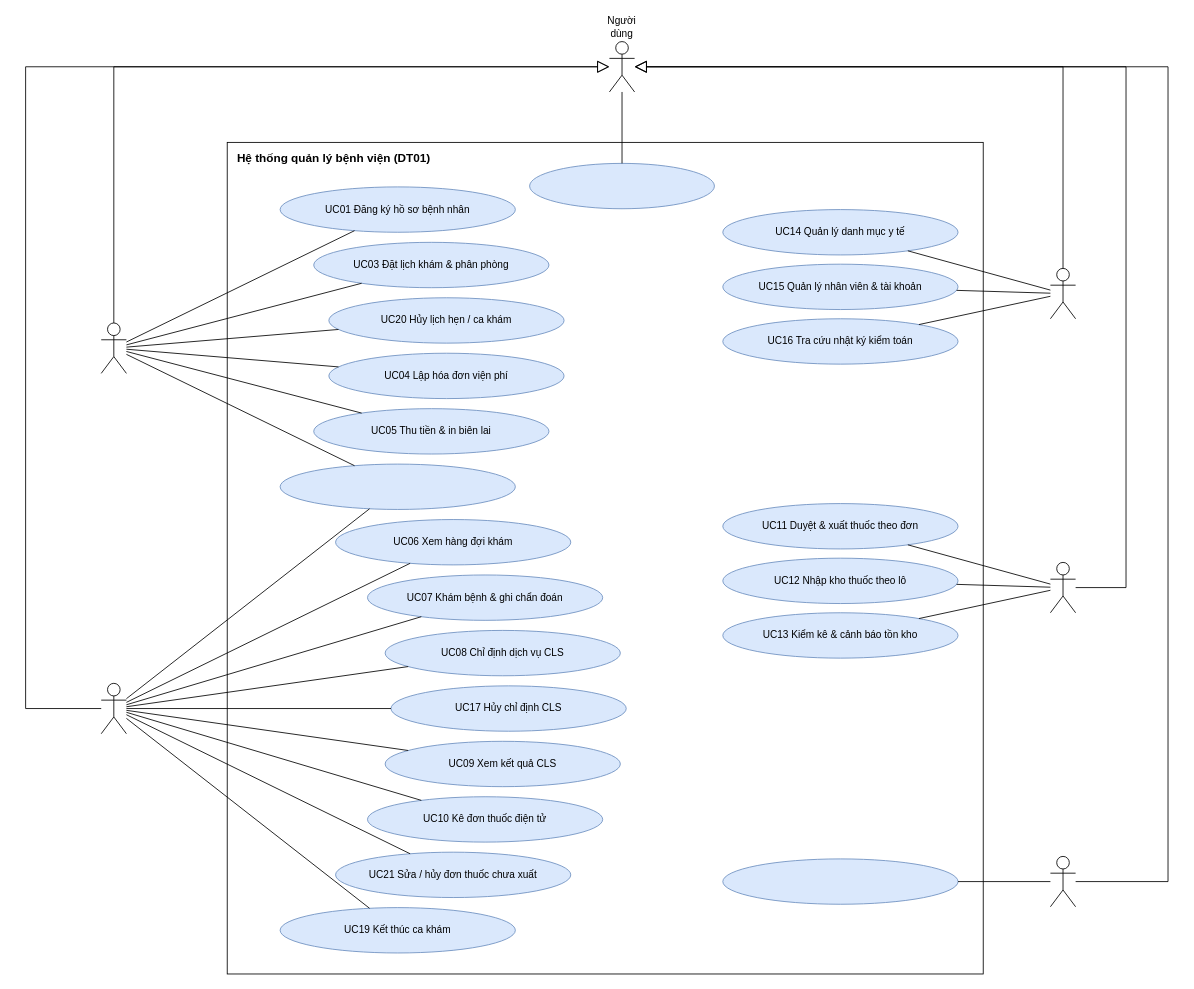
Some shapes in this 1194 by 989 pixel diagram are drawn without their labels. Here are the shapes that lost their labels. From the top down, the centre of each, then its label:
At point 621,186: "UC22 Đăng nhập & xác thực".
At point 1063,293: "Quản trị viên".
At point 113,347: "Nhân viên hành chính".
At point 397,486: "UC02 Tra cứu hồ sơ bệnh nhân".
At point 1063,587: "Dược sĩ".
At point 113,708: "Bác sĩ".
At point 840,881: "UC18 Thực hiện CLS & nhập kết quả".
At point 1063,881: "Kỹ thuật viên CLS".
